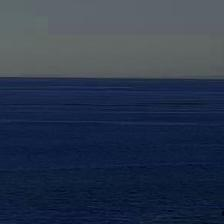surfer: (219, 210, 224, 215)
